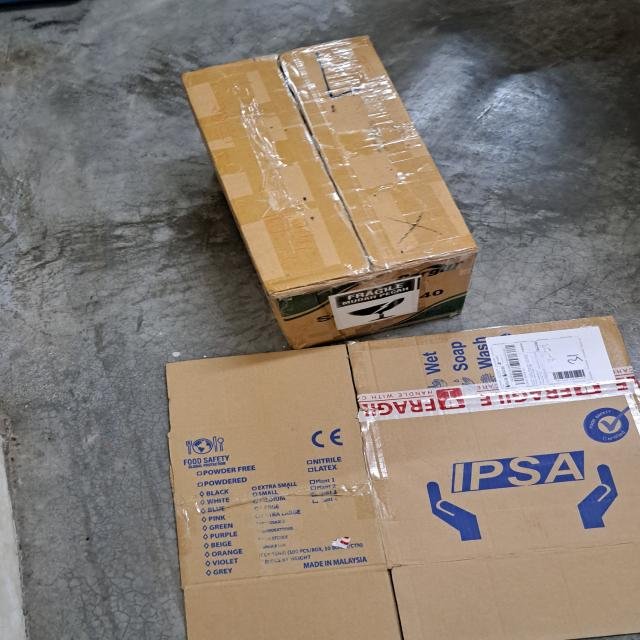cardboard: (165, 319, 640, 640), (185, 31, 477, 352)
